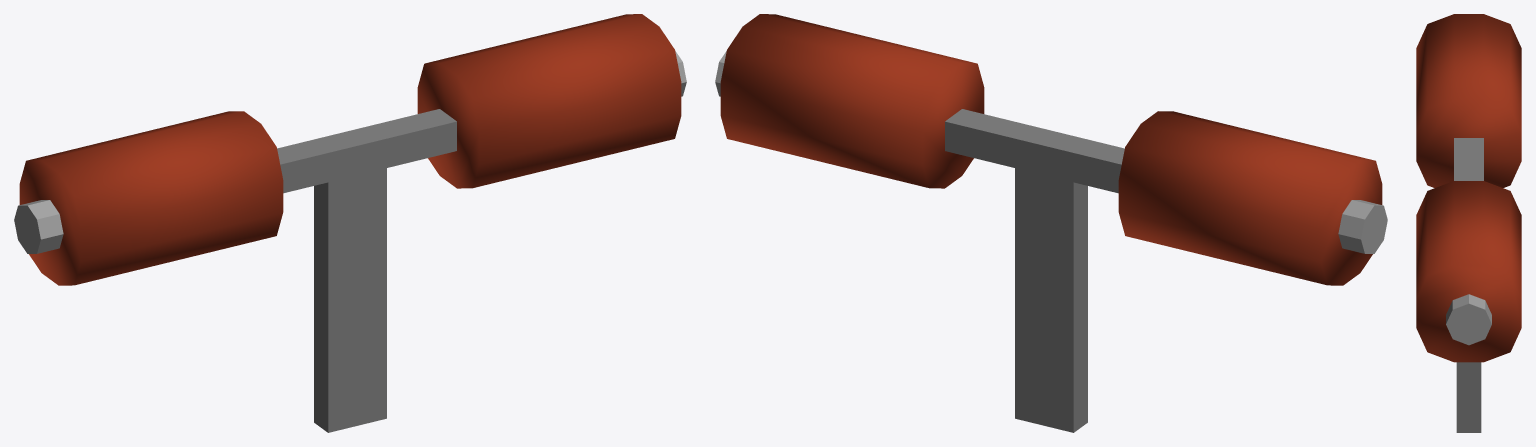
File: e-machine-ac-2.glb
3 renders of one model, left to right at view 1: azimuth 30°, elevation 25°; view 2: azimuth 150°, elevation 25°; view 3: azimuth 270°, elevation 25°, orthographic. The views are drawn at different scales.
Visible parts, largest first — view 1: E_Machine_Ac_2; view 2: E_Machine_Ac_2; view 3: E_Machine_Ac_2.
Boxes of the visible parts, left/top/right/bottom form: E_Machine_Ac_2: left=14, top=14, right=686, bottom=432; E_Machine_Ac_2: left=715, top=14, right=1387, bottom=432; E_Machine_Ac_2: left=1416, top=14, right=1521, bottom=432.
Bounding box in the file's own units: 69.49 × 33.61 × 11.44.
1 material, 1 textured.
